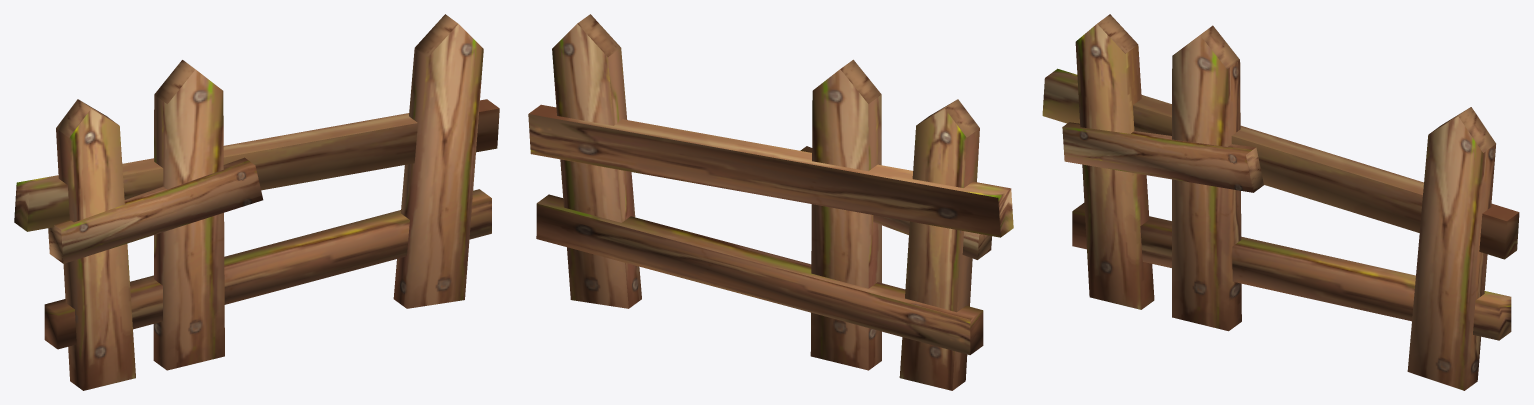
Rendered from Map_07_wooden04.FBX.
The picture shows the model from 3 angles, left to right: view 1: azimuth 30°, elevation 25°; view 2: azimuth 150°, elevation 25°; view 3: azimuth 330°, elevation 25°; orthographic projection.
Parts seen in each view (by area): view 1: Map_07_wooden04; view 2: Map_07_wooden04; view 3: Map_07_wooden04.
Boxes of the visible parts, box(x1,y1,x2,y2) form: Map_07_wooden04: box(14, 14, 499, 390); Map_07_wooden04: box(528, 14, 1013, 390); Map_07_wooden04: box(1042, 14, 1519, 390).
Bounding box in the file's own units: 179 × 107 × 15.55.
1 material, 1 textured.
